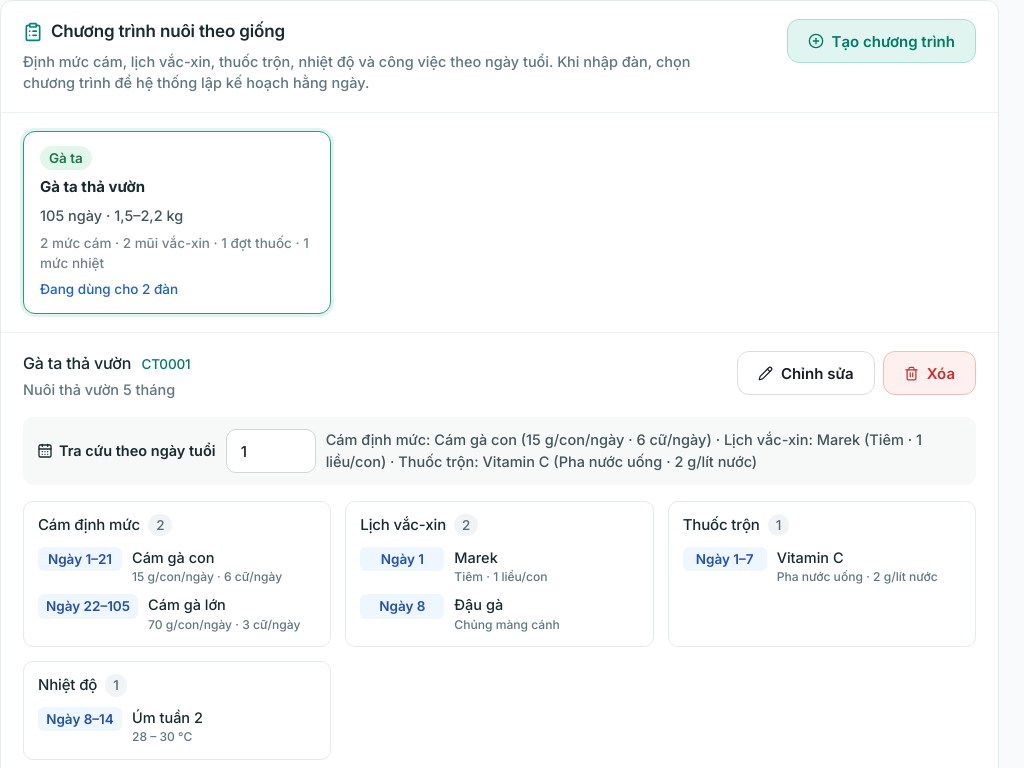
Farming programs by breed › flags overlapping feed rations and steps beyond the rearing period
Step 1. Click the button "Chỉnh sửa" → (806, 373), box [737,351,875,395]
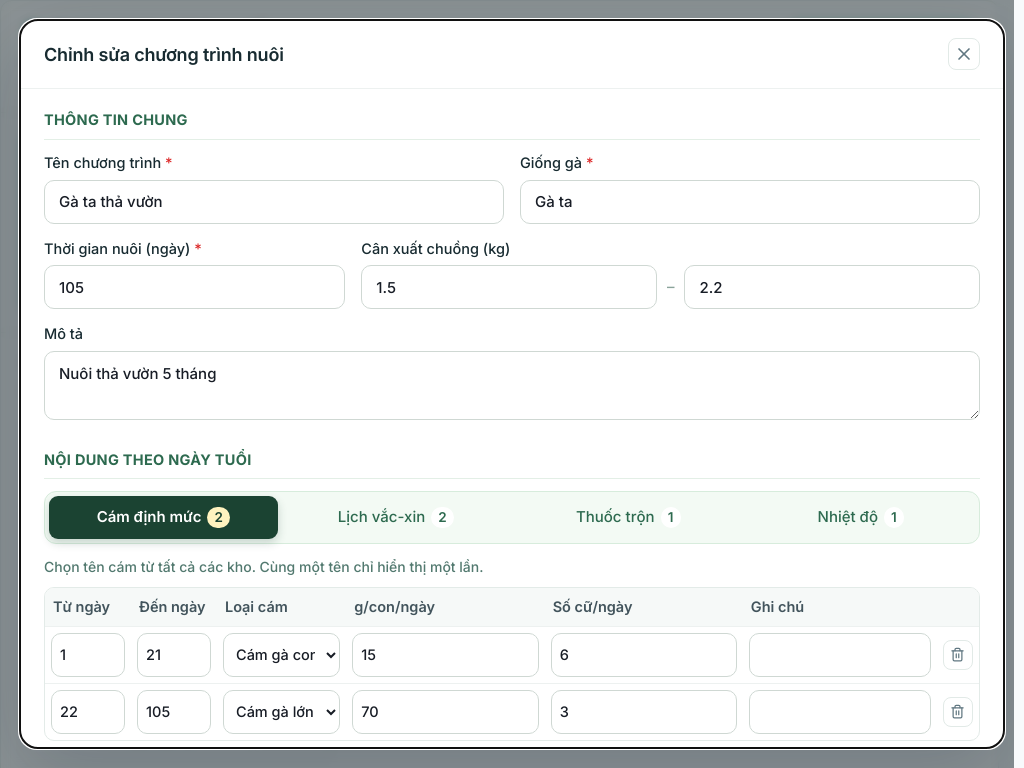
Step 2. Replace the text in the number field named "Từ ngày dòng 2" with "20" → (88, 712), box [51,690,125,734]
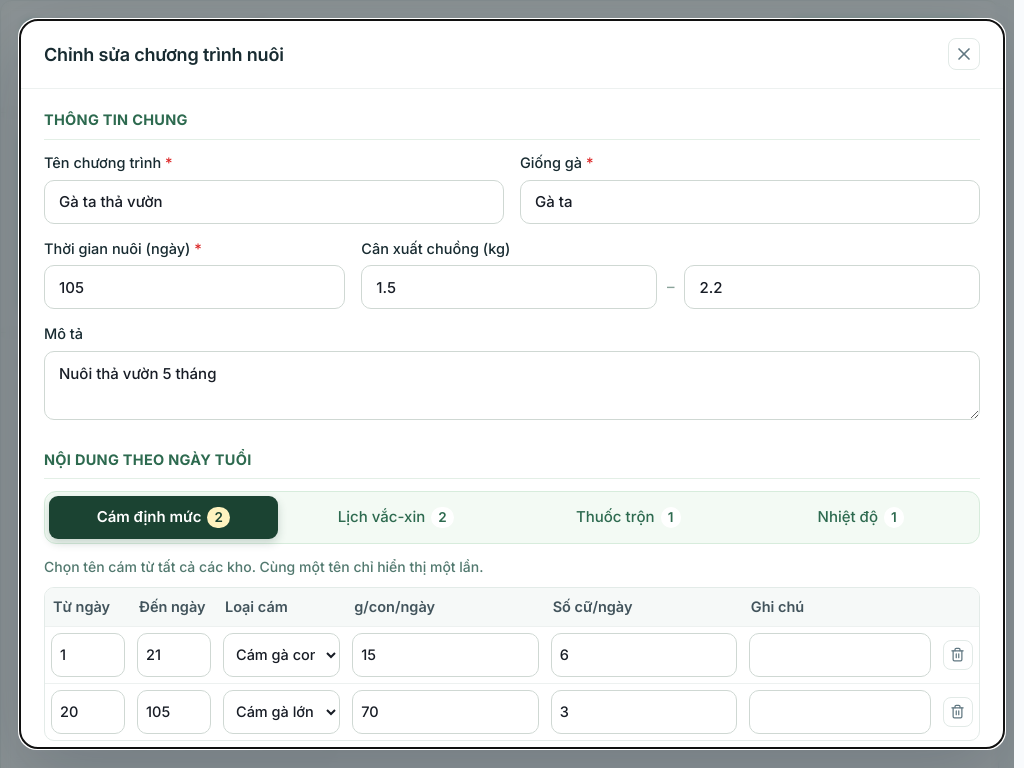
Step 3. Replace the text in the number field labelled "Thời gian nuôi (ngày) *" with "100" → (195, 287), box [44,265,345,309]
(page scrolled)
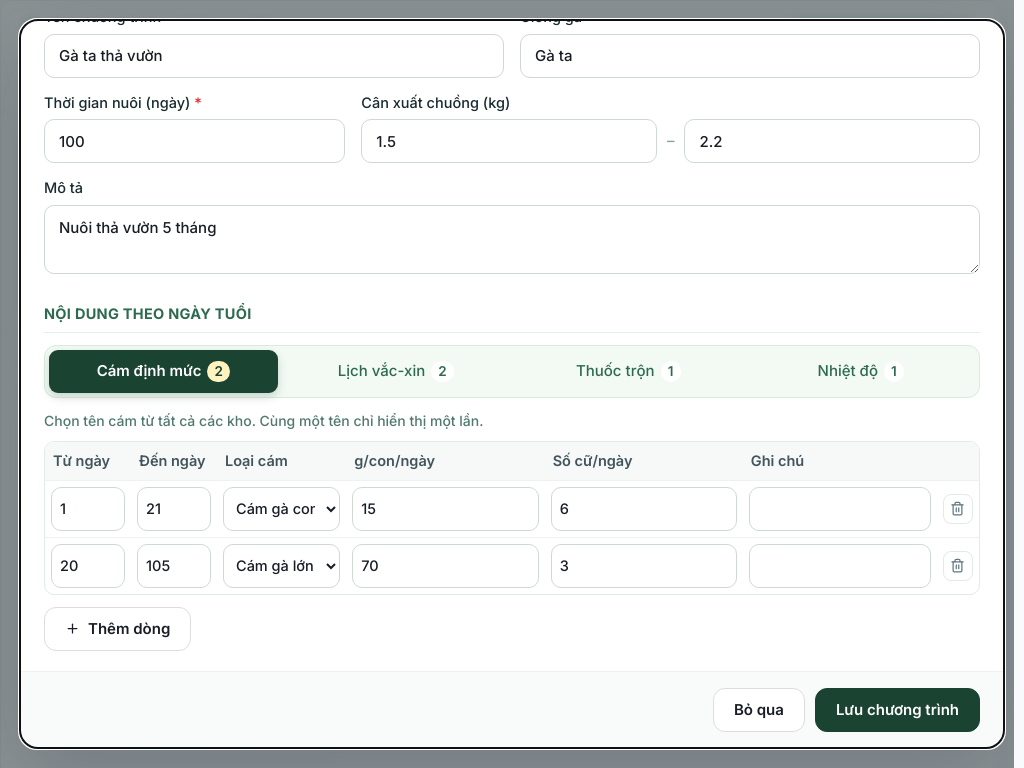
Step 4. Click the button "Lưu chương trình" → (897, 710), box [815,688,980,732]
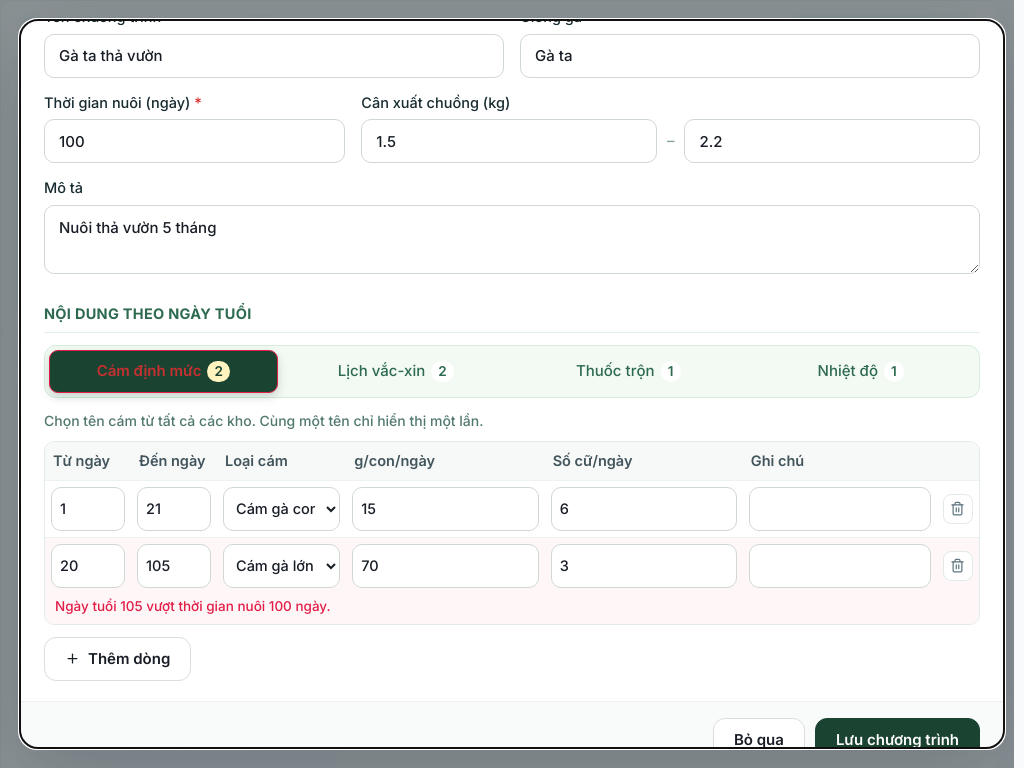
Result: the text "Ngày tuổi 105 vượt thời gian nuôi 100 ngày." is shown at [45,594,979,624]
Step 5. Replace the text in the number field labelled "Thời gian nuôi (ngày) *" with "105" → (195, 141), box [44,119,345,163]
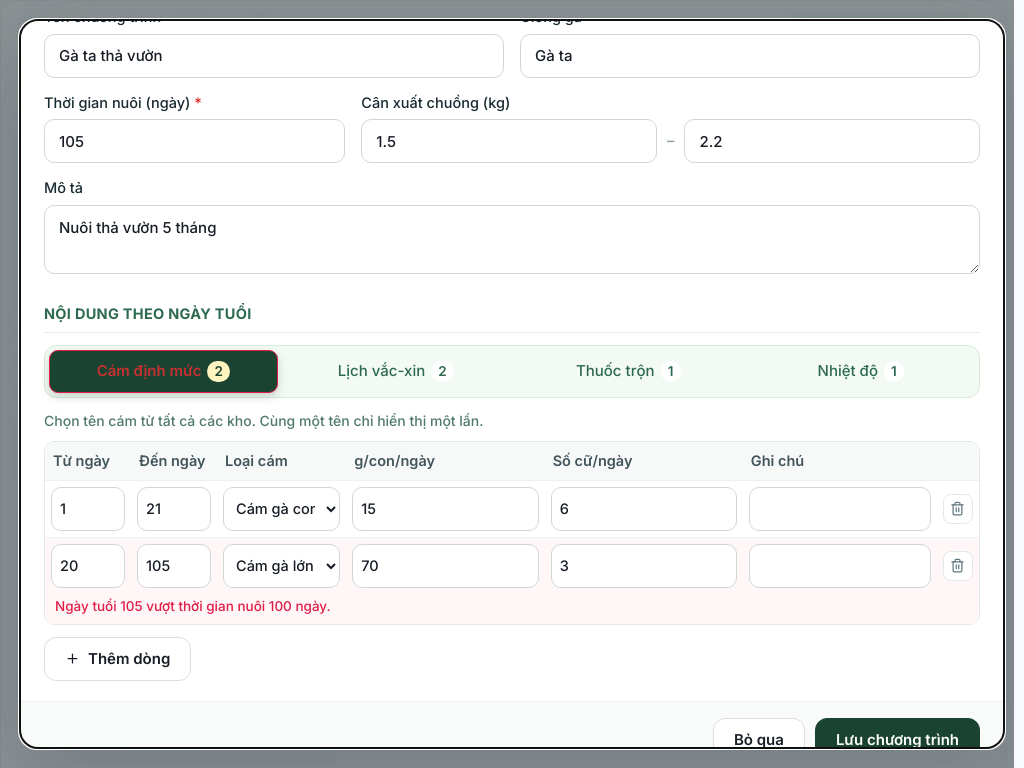
Step 6. Click the button "Lưu chương trình" → (897, 740), box [815,718,980,762]
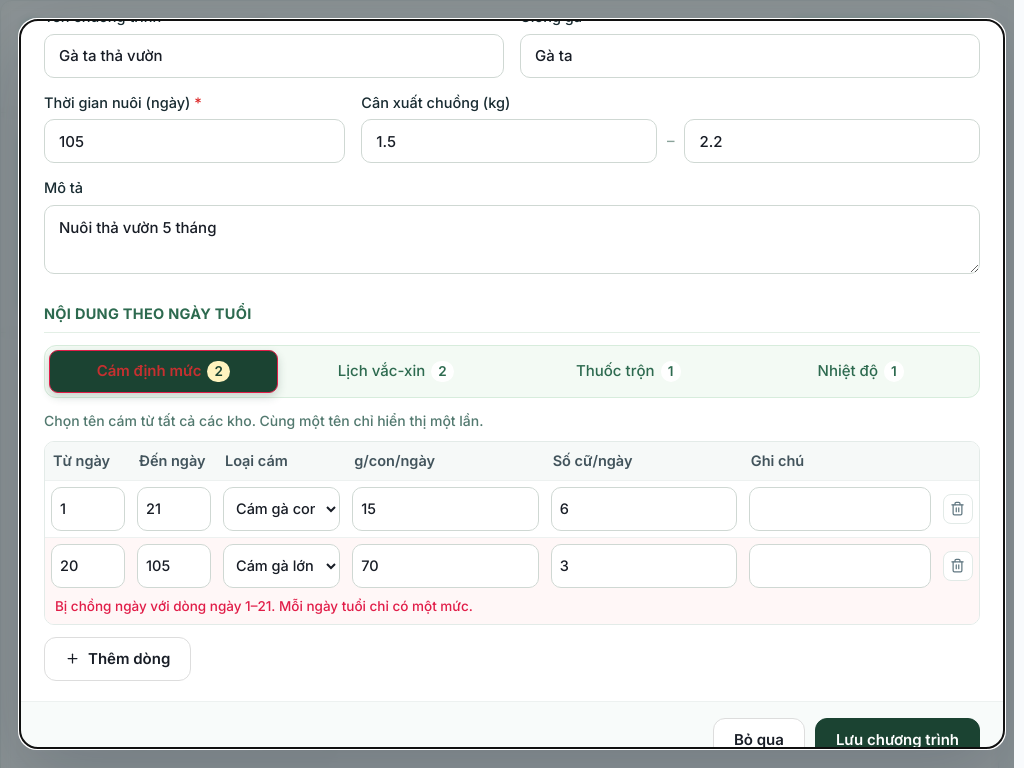
Result: the text "Bị chồng ngày với dòng ngày 1–21. Mỗi ngày tuổi chỉ có một mức." is shown at [45,594,979,624]
